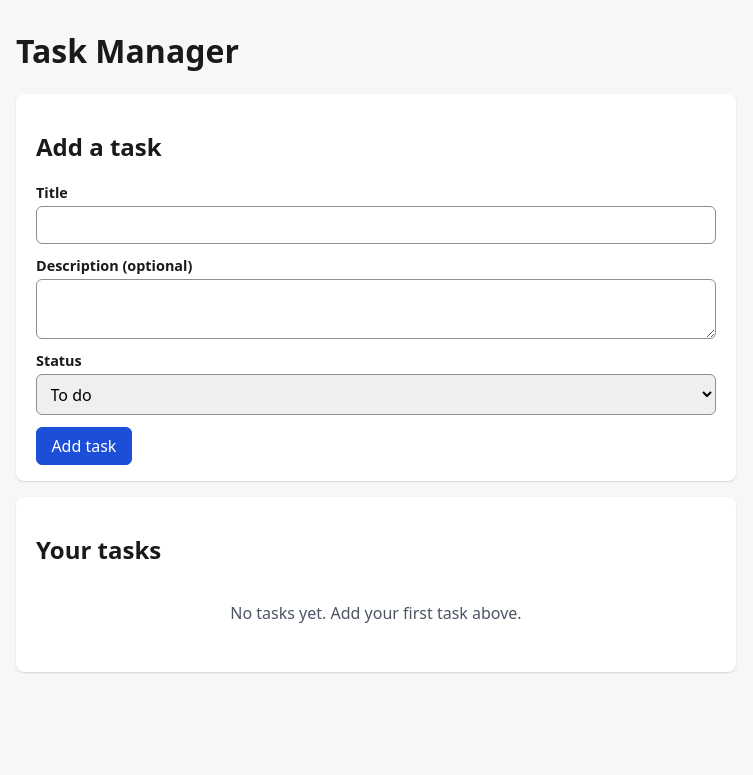
Scenario: App › updates updatedAt but keeps createdAt on edit
Type "Before" into the field labelled "Title".
click(376, 225); type("Before")  # box 36,206 -> 716,244
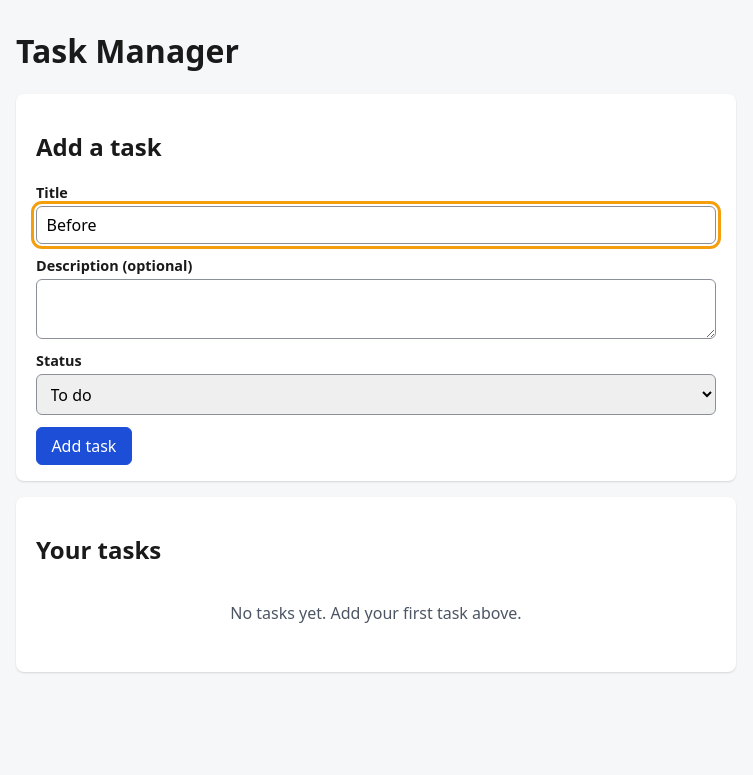
Click the button "Add task".
click(84, 446)  # box 36,427 -> 132,465
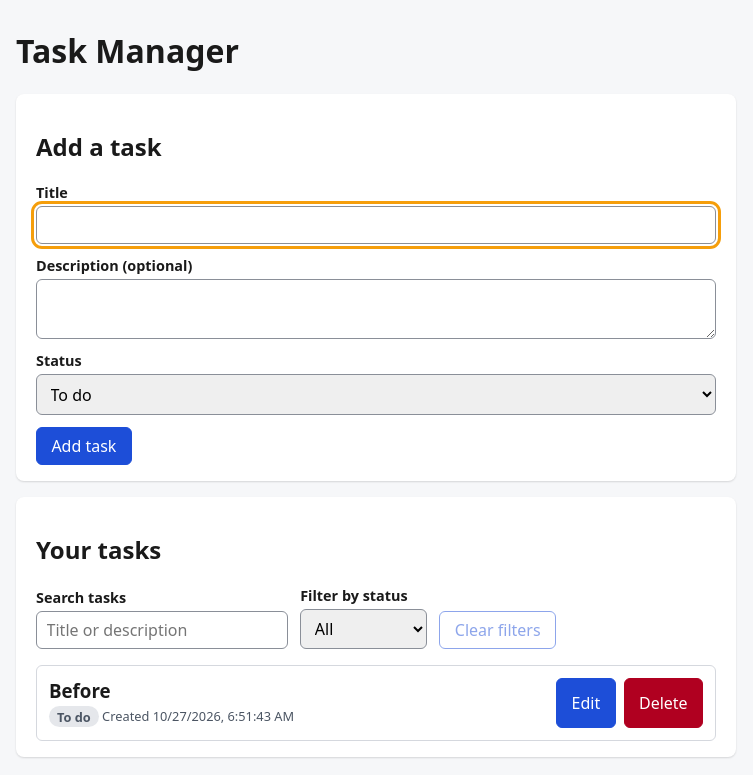
Click the button with aria-label "Edit Before".
click(586, 703)  # box 556,678 -> 616,728
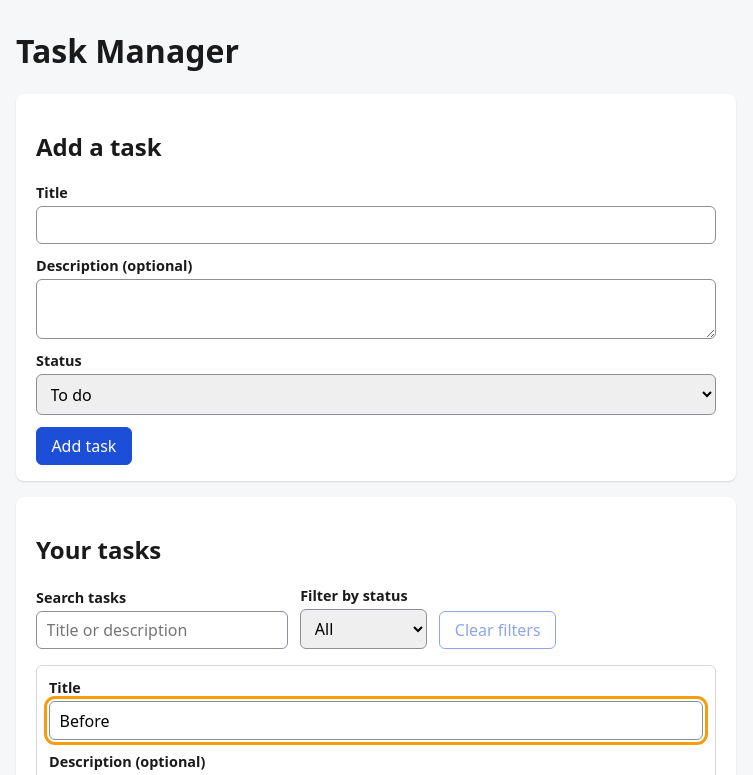
Replace the text in the field labelled "Title" below "Search tasks" with "After" at (376, 721), box 49,701 -> 703,740
(page scrolled)
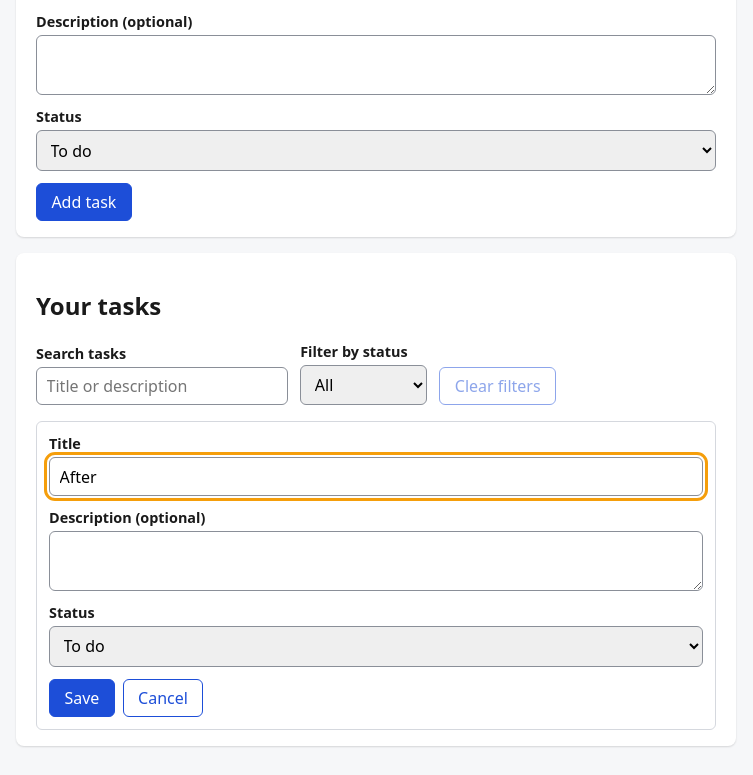
Click the button "Save".
click(82, 698)  # box 49,678 -> 115,717
(page scrolled)
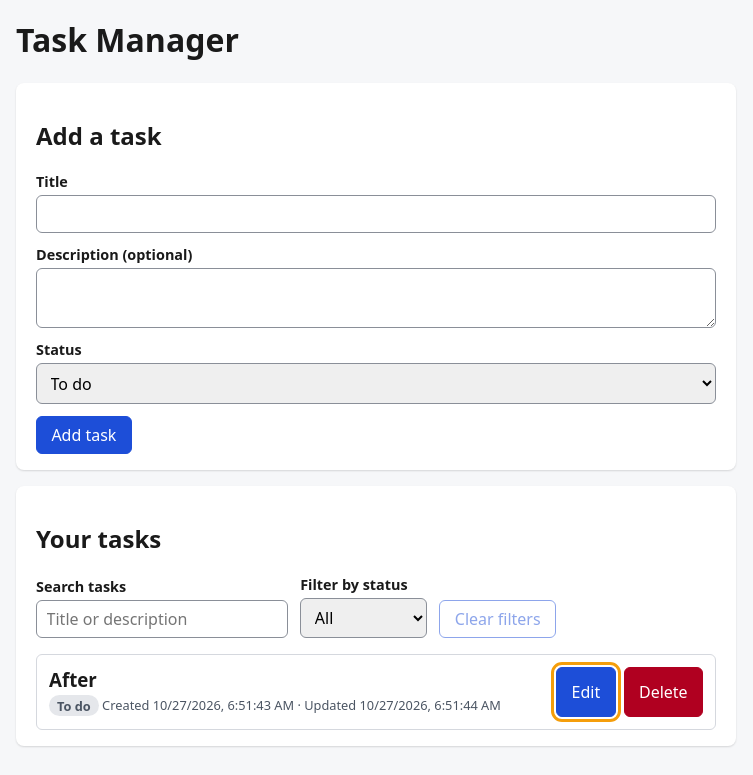
Expected: the heading "After" is shown, 49,667 -> 97,692
